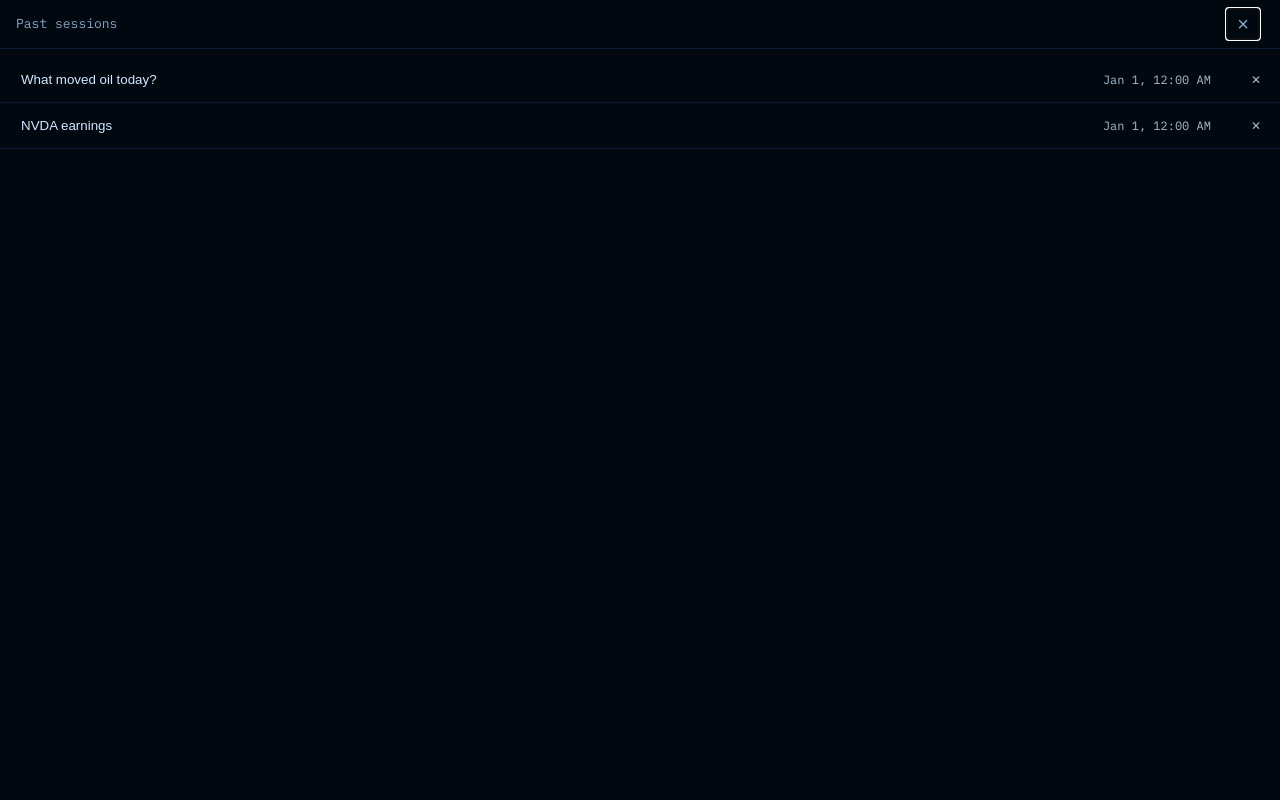
Test case: SessionHistory — delete (Roy, 2026-10-18) › a refused delete says so and keeps the row
Click the button named "Delete NVDA earnings" at (1256, 126), box [1237,108,1275,143]
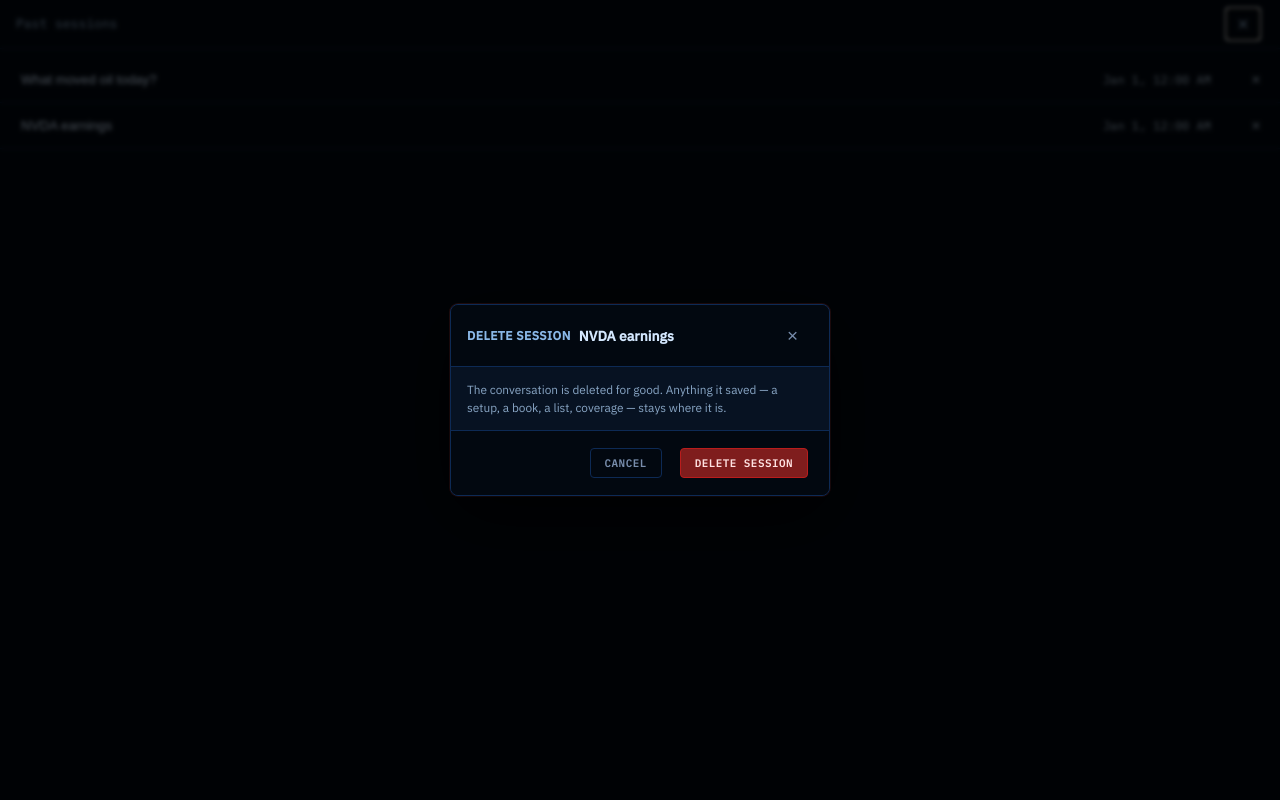
Click the button "Delete session" at (744, 463), box [680,448,808,478]
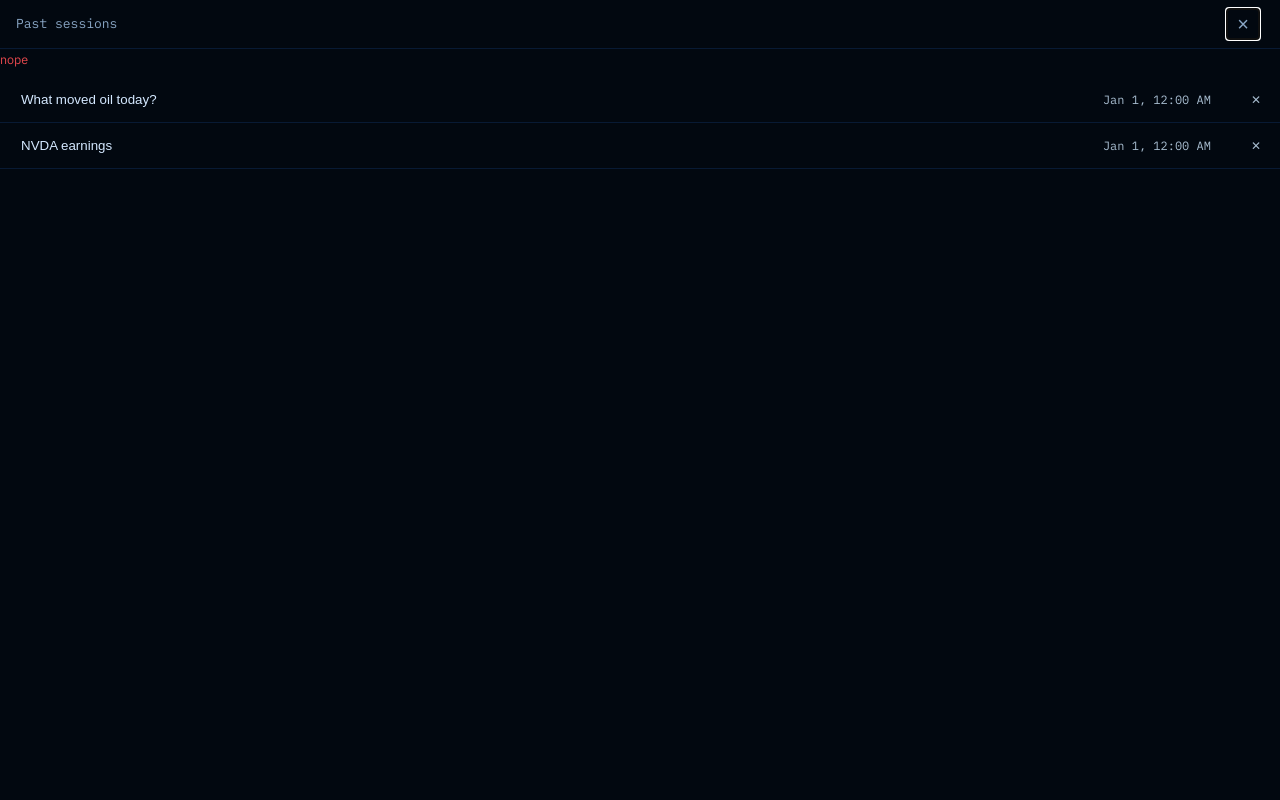
Expected: the text "NVDA earnings" is shown, [21,138,112,153]
Now the text "nope" is shown, box [0,51,28,67]
